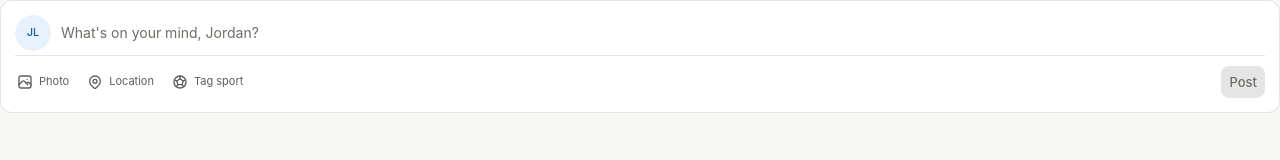
CreatePostForm › disables Post until there is text, then enables it
expect the button "Post" is disabled: met, box [1222, 66, 1265, 98]
Type "Great match today!" into the text box named "Create a post" at (663, 33), box [61, 15, 1265, 51]
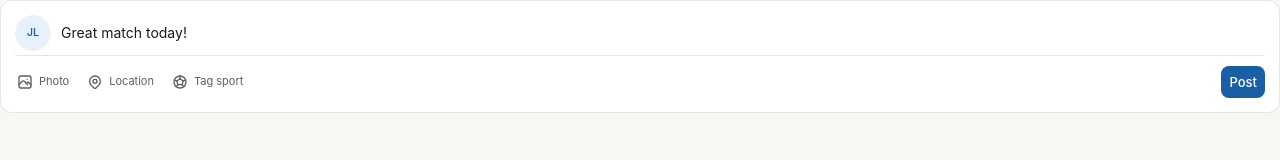
expect the button "Post" is enabled: met, box [1222, 66, 1265, 98]
